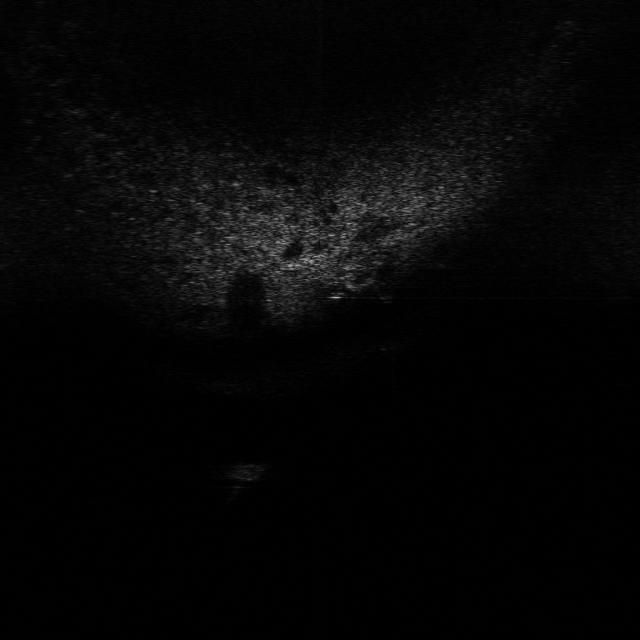ball: (367, 266, 409, 302)
cube: (218, 455, 270, 485)
